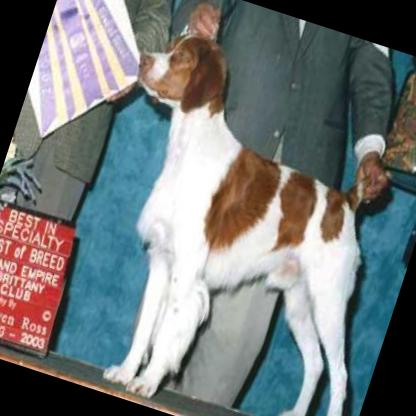Brittany_spaniel: (40, 14, 416, 416)
